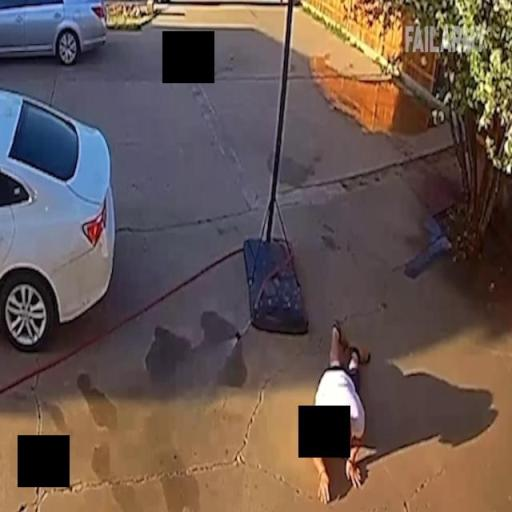Fall: (308, 314, 372, 505)
